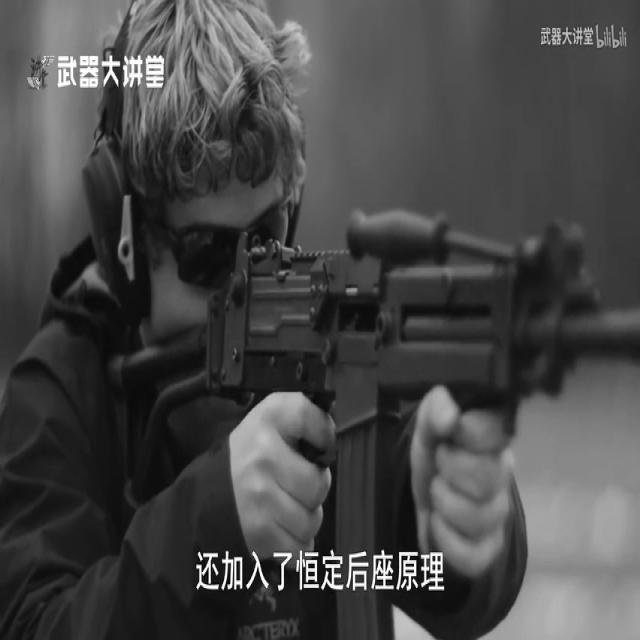Rifle: (104, 192, 640, 584)
